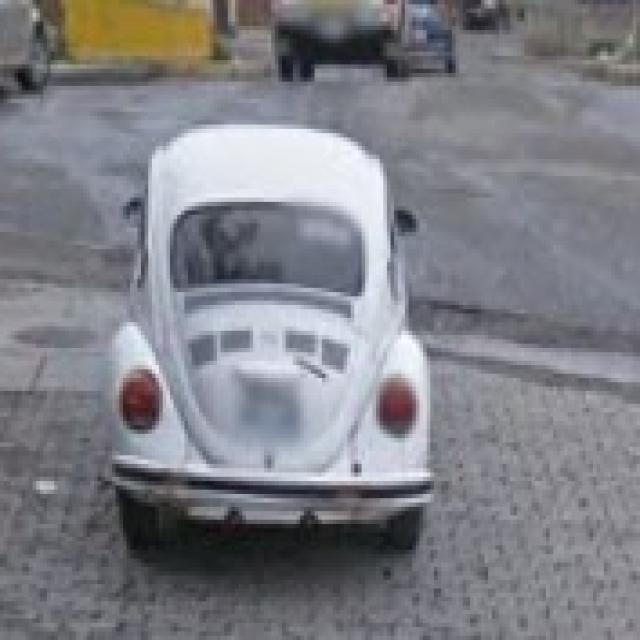car: (99, 125, 428, 566)
